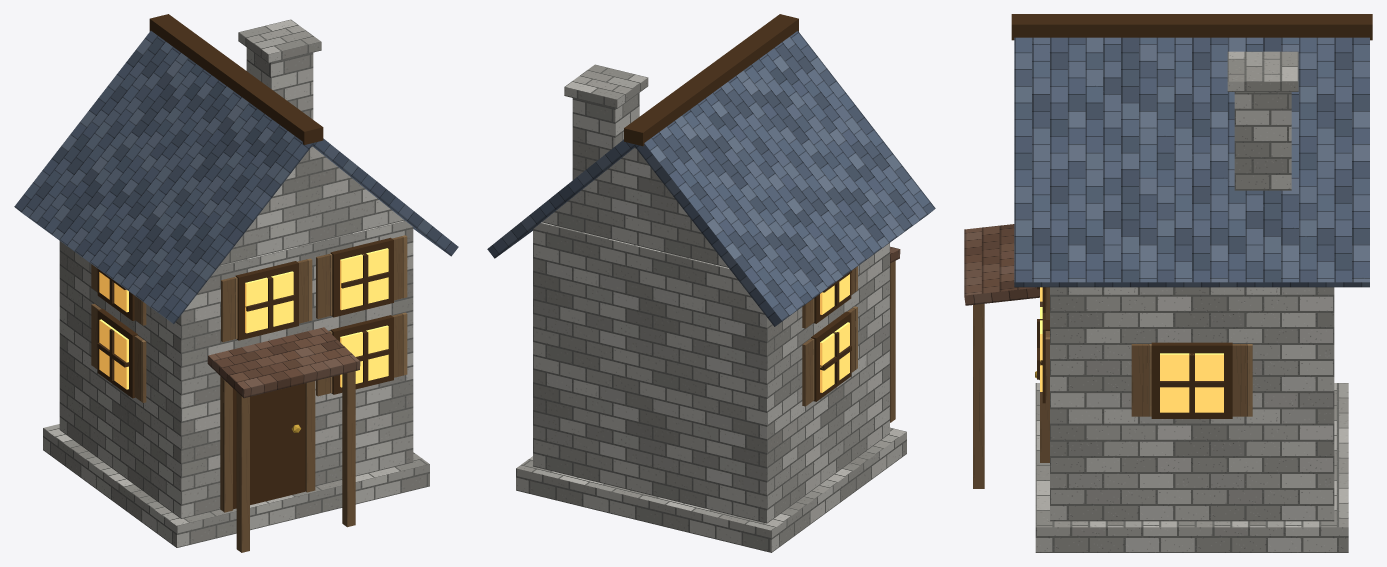
Rendered from stonehouse.glb.
3 views of the same model, side by side, from view 1: azimuth 30°, elevation 25°; view 2: azimuth 150°, elevation 25°; view 3: azimuth 270°, elevation 25° (orthographic). The views are drawn at different scales.
Parts seen in each view (by area): view 1: stonehouse; view 2: stonehouse; view 3: stonehouse.
Part boxes in pixels (x1=…): stonehouse: x1=14, y1=14, x2=458, y2=552; stonehouse: x1=487, y1=14, x2=935, y2=552; stonehouse: x1=964, y1=14, x2=1372, y2=552.
Bounding box in the file's own units: 2.77 × 3.58 × 2.87.
7 materials, 4 textured.
